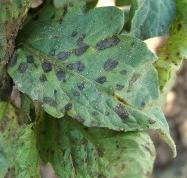Tomato leaf bacterial spot: (0, 19, 181, 155), (18, 81, 162, 178), (0, 0, 55, 104)
